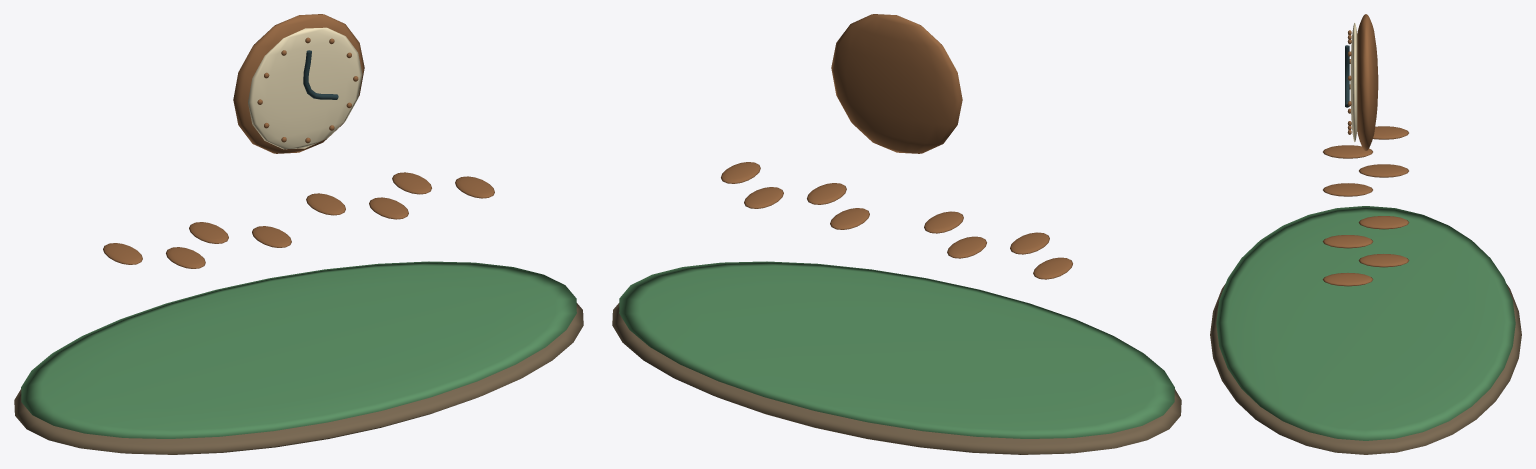
Rendered from complete-second-behind-coming-later.glb.
3 renders of one model, left to right at view 1: azimuth 30°, elevation 25°; view 2: azimuth 150°, elevation 25°; view 3: azimuth 270°, elevation 25°, orthographic. The views are drawn at different scales.
Visible parts, largest first — view 1: complete-second-behind-coming-later_surface_01, complete-second-behind-coming-later_surface_03, complete-second-behind-coming-later_surface_00, complete-second-behind-coming-later_surface_02; view 2: complete-second-behind-coming-later_surface_01, complete-second-behind-coming-later_surface_02, complete-second-behind-coming-later_surface_00; view 3: complete-second-behind-coming-later_surface_01, complete-second-behind-coming-later_surface_02, complete-second-behind-coming-later_surface_00, complete-second-behind-coming-later_surface_03.
Boxes of the visible parts, left/top/right/bottom form: complete-second-behind-coming-later_surface_01: left=21, top=261, right=576, bottom=438; complete-second-behind-coming-later_surface_03: left=248, top=27, right=362, bottom=149; complete-second-behind-coming-later_surface_00: left=14, top=303, right=583, bottom=454; complete-second-behind-coming-later_surface_02: left=103, top=14, right=494, bottom=268; complete-second-behind-coming-later_surface_01: left=619, top=261, right=1174, bottom=438; complete-second-behind-coming-later_surface_02: left=721, top=14, right=1072, bottom=279; complete-second-behind-coming-later_surface_00: left=612, top=303, right=1181, bottom=454; complete-second-behind-coming-later_surface_01: left=1216, top=206, right=1515, bottom=440; complete-second-behind-coming-later_surface_02: left=1322, top=14, right=1409, bottom=286; complete-second-behind-coming-later_surface_00: left=1210, top=283, right=1521, bottom=454; complete-second-behind-coming-later_surface_03: left=1350, top=23, right=1357, bottom=141.
Size of the model in its own units: 4.56 by 2.91 by 2.5.
